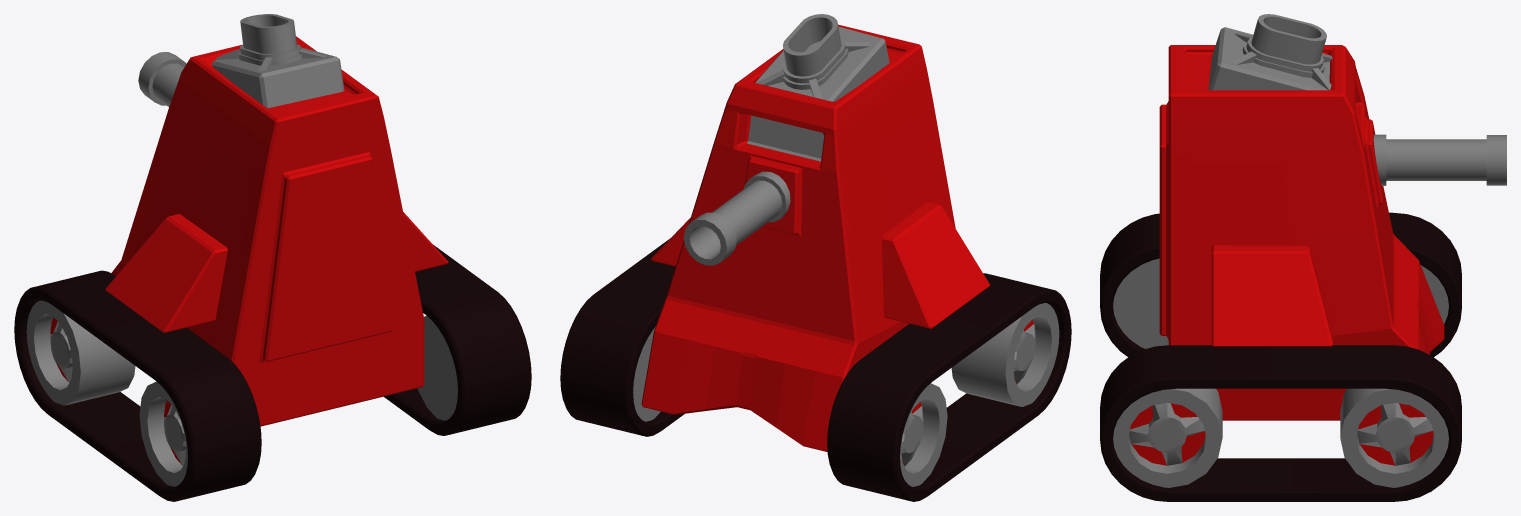
Rendered from tank-05.glb.
3 renders of one model, left to right at view 1: azimuth 30°, elevation 25°; view 2: azimuth 150°, elevation 25°; view 3: azimuth 270°, elevation 25°, orthographic.
Parts seen in each view (by area): view 1: Body, Tracks-R, Tracks-L, Weapon-Mortar, Wheel-FL, Wheel-BL, Wheel-FR, Weapon-Cannon; view 2: Body, Tracks-R, Tracks-L, Weapon-Mortar, Wheel-BL, Weapon-Cannon, Wheel-FL, Wheel-BR; view 3: Body, Tracks-L, Wheel-FR, Wheel-BR, Weapon-Mortar, Tracks-R, Weapon-Cannon, Wheel-BL, Wheel-FL.
Part boxes in pixels (x1=…): Body: x1=105, y1=36, x2=448, y2=426; Tracks-R: x1=14, y1=270, x2=261, y2=501; Tracks-L: x1=384, y1=244, x2=531, y2=435; Weapon-Mortar: x1=211, y1=14, x2=344, y2=108; Wheel-FL: x1=26, y1=300, x2=135, y2=405; Wheel-BL: x1=139, y1=381, x2=187, y2=486; Wheel-FR: x1=417, y1=316, x2=457, y2=420; Weapon-Cannon: x1=138, y1=52, x2=186, y2=106; Body: x1=641, y1=24, x2=990, y2=451; Tracks-R: x1=827, y1=273, x2=1071, y2=501; Tracks-L: x1=560, y1=239, x2=684, y2=436; Weapon-Mortar: x1=755, y1=14, x2=889, y2=101; Wheel-BL: x1=951, y1=303, x2=1059, y2=406; Weapon-Cannon: x1=683, y1=171, x2=790, y2=265; Wheel-FL: x1=900, y1=383, x2=947, y2=486; Wheel-BR: x1=633, y1=327, x2=660, y2=421; Body: x1=1159, y1=45, x2=1444, y2=420; Tracks-L: x1=1100, y1=345, x2=1461, y2=501; Wheel-FR: x1=1113, y1=388, x2=1222, y2=487; Wheel-BR: x1=1340, y1=388, x2=1448, y2=487; Weapon-Mortar: x1=1208, y1=14, x2=1332, y2=90; Tracks-R: x1=1100, y1=212, x2=1461, y2=357; Weapon-Cannon: x1=1373, y1=134, x2=1506, y2=185; Wheel-BL: x1=1113, y1=258, x2=1168, y2=348; Wheel-FL: x1=1421, y1=265, x2=1448, y2=324.
Bounding box in the file's own units: 3.51 × 3.93 × 3.62.
